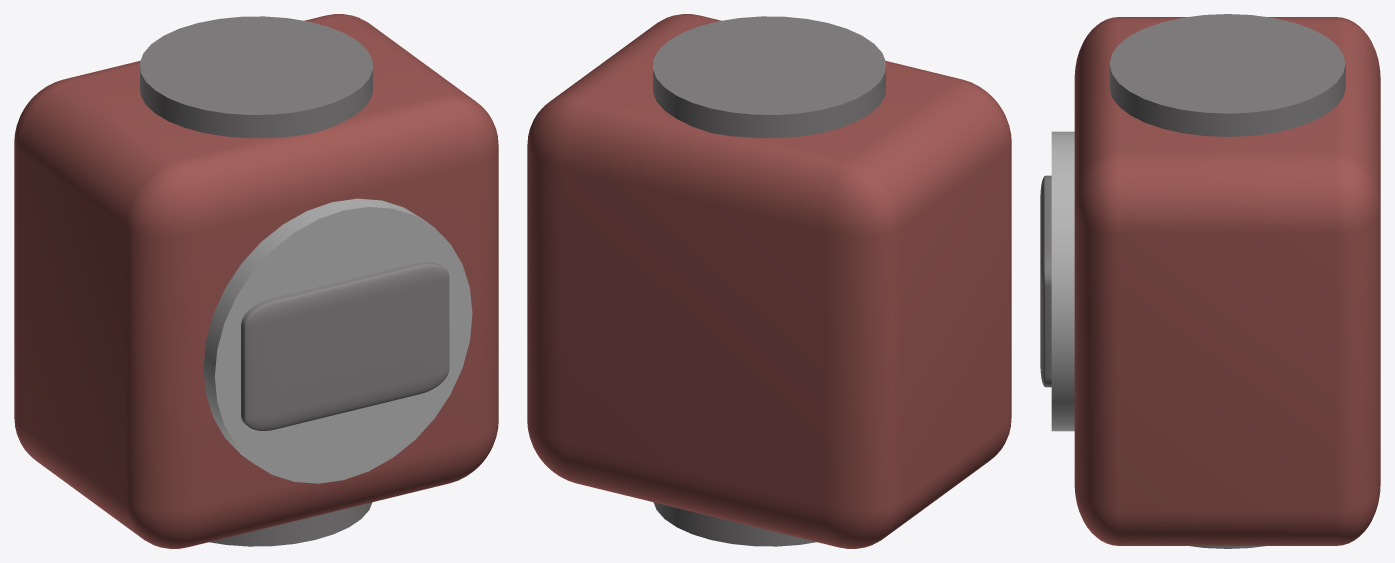
The model's file is pumpMesh.fbx.
3 renders of one model, left to right at view 1: azimuth 30°, elevation 25°; view 2: azimuth 150°, elevation 25°; view 3: azimuth 270°, elevation 25°, orthographic.
Visible parts, largest first — view 1: Cube, Cylinder, Cube.001, Cylinder.001; view 2: Cube, Cylinder.001; view 3: Cube, Cylinder.001, Cylinder, Cube.001.
Part boxes in pixels (box(x1,y1,x2,y2)): Cube: box(14, 14, 498, 548); Cylinder: box(203, 198, 472, 483); Cube.001: box(241, 262, 449, 430); Cylinder.001: box(140, 16, 372, 546); Cube: box(527, 14, 1011, 548); Cylinder.001: box(653, 16, 885, 546); Cube: box(1074, 17, 1380, 545); Cylinder.001: box(1109, 14, 1345, 548); Cylinder: box(1051, 131, 1074, 431); Cube.001: box(1040, 175, 1051, 387).
Size of the model in its own units: 200 by 224 by 159.
